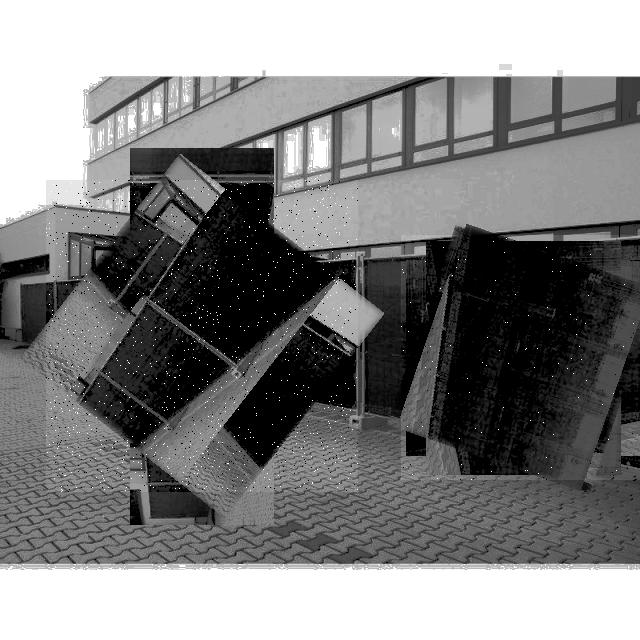fences: (46, 180, 358, 492), (401, 235, 640, 480)
